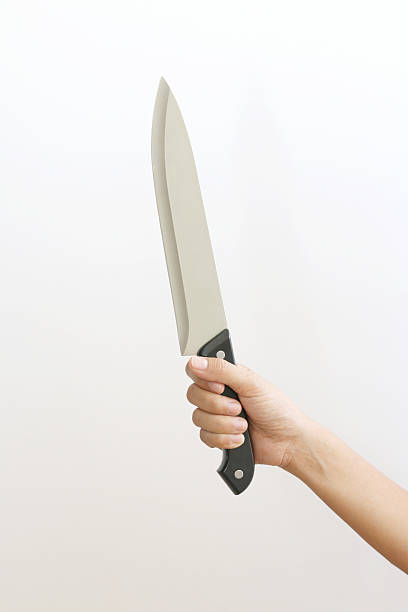knife: (149, 78, 258, 496)
